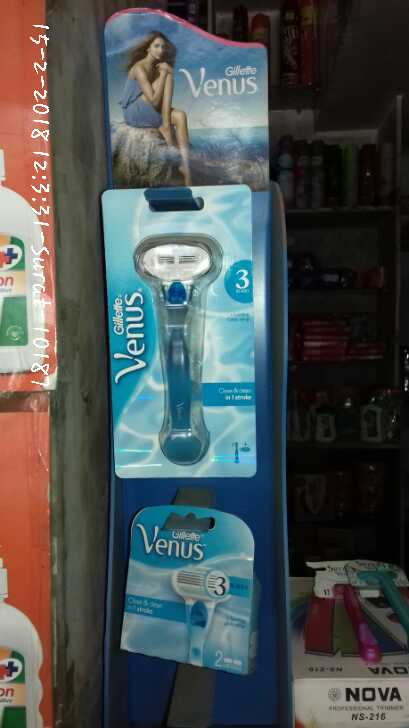venus: (98, 187, 265, 483), (137, 507, 253, 675)
